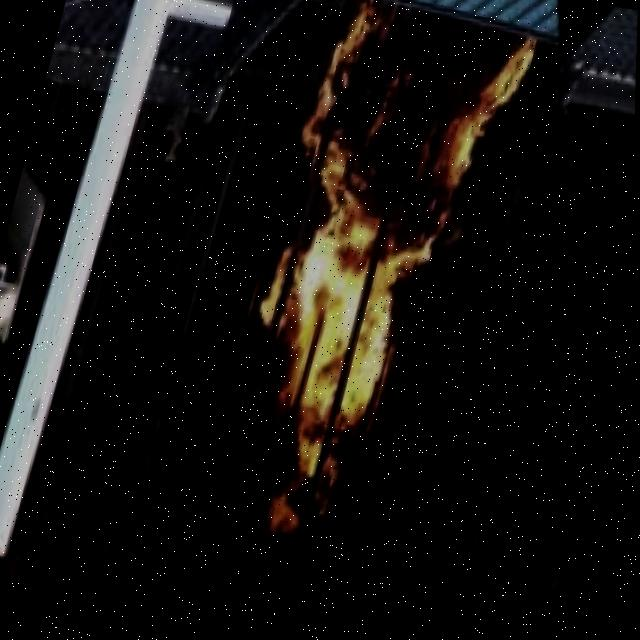Fire: (199, 0, 539, 582)
